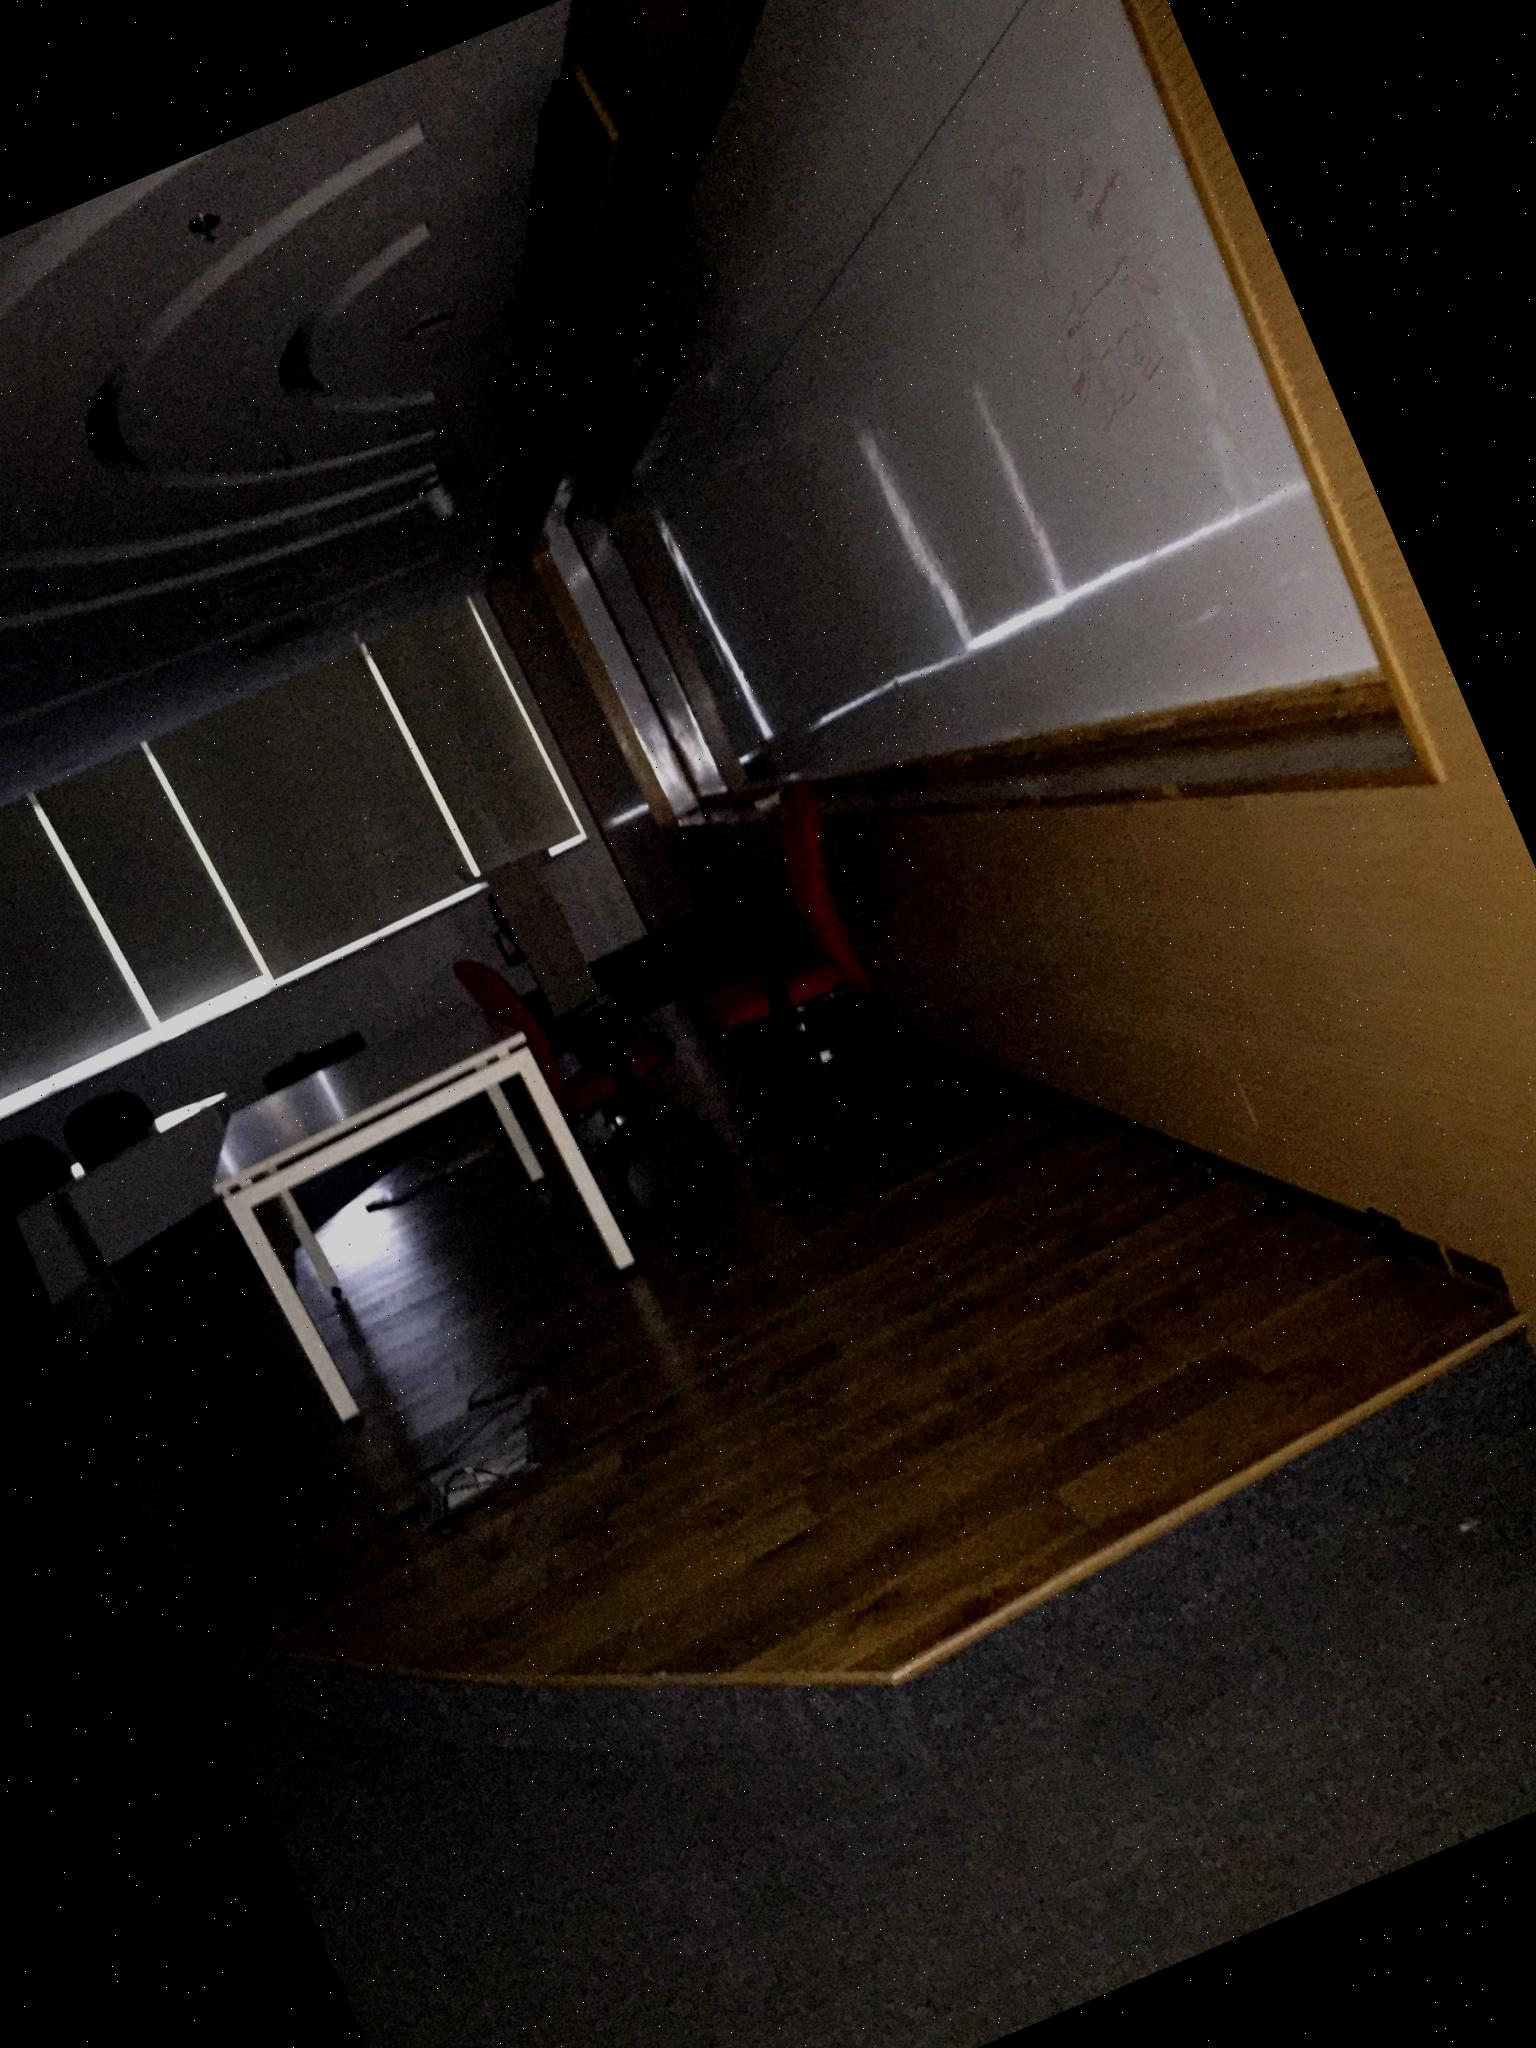chair: (613, 774, 950, 1192), (447, 892, 736, 1243), (55, 1079, 211, 1285), (0, 1124, 89, 1255)
